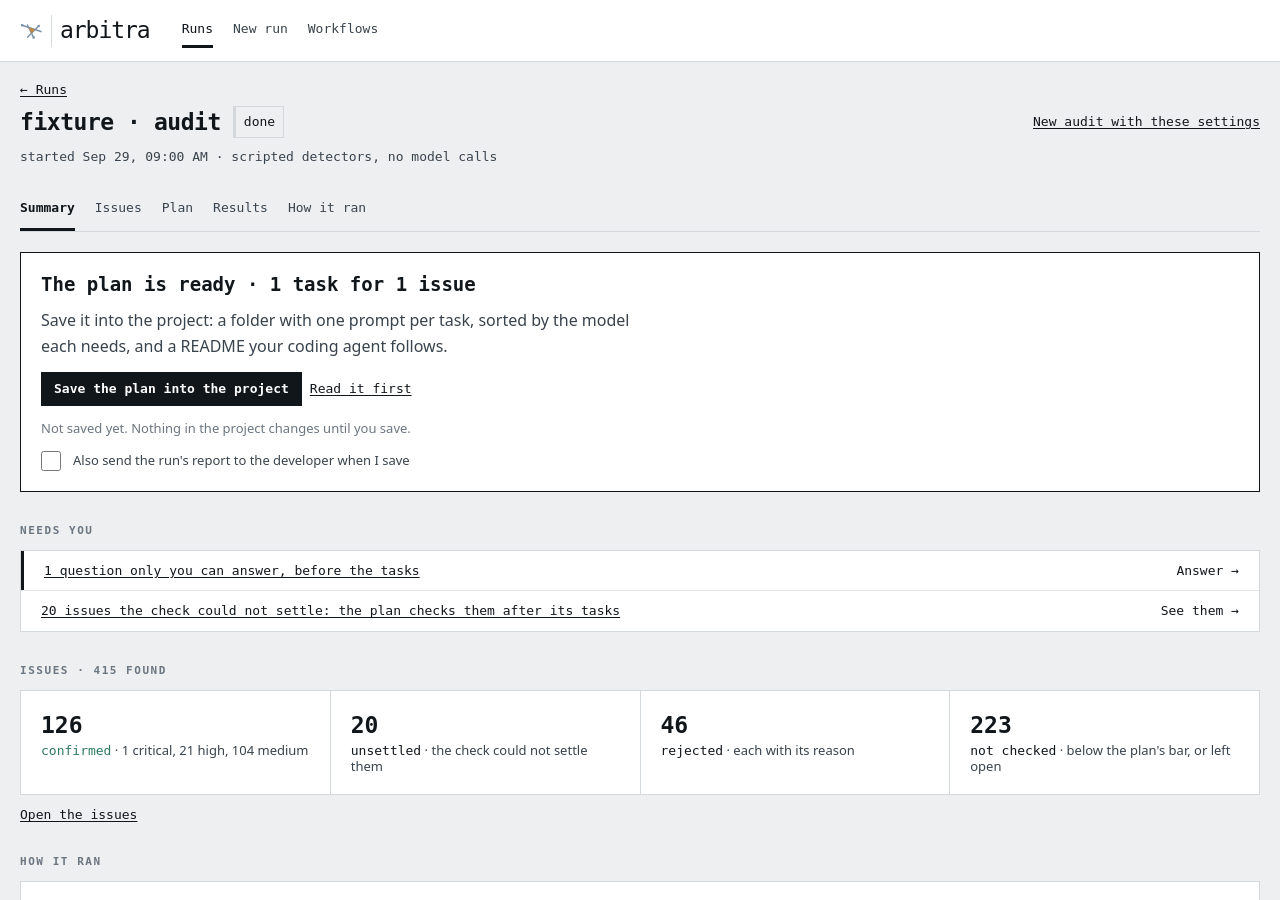
Scenario: the run page › saves the plan into the project on request, then says where it went and what to do next
Click the button "Save the plan into the project" at x=171, y=389, box [41,372,302,406]
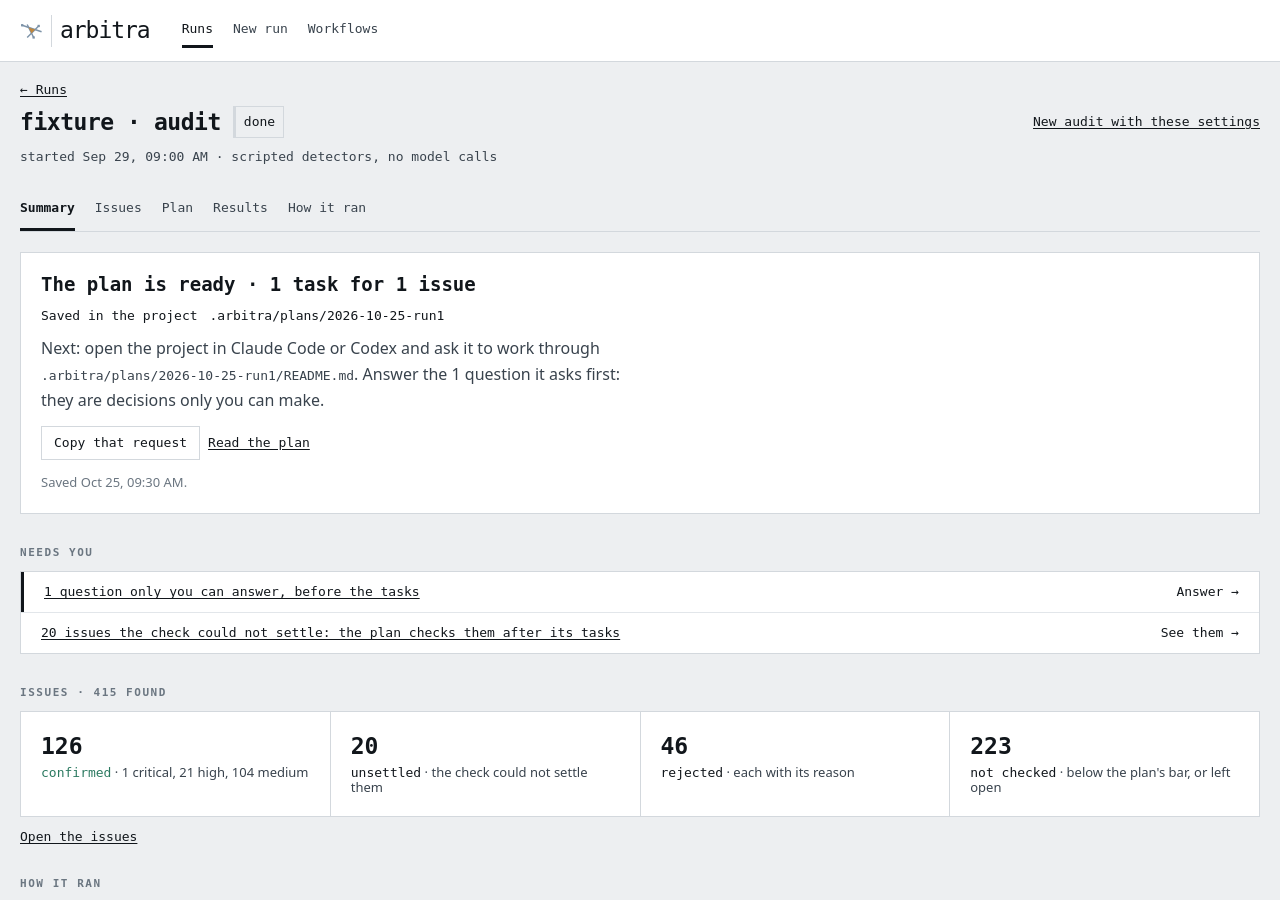
Check: the text "Saved in the project" is shown, box [41,308,198,324]
Check: the text ".arbitra/plans/2026-10-25-run1" is shown, box [210,308,444,324]
Check: the text "Next: open the project in Claude Code or Codex and ask it to work through" shows ".arbitra/plans/2026-10-25-run1/README.md. Answer the 1 question it asks first", box [41,336,645,414]
